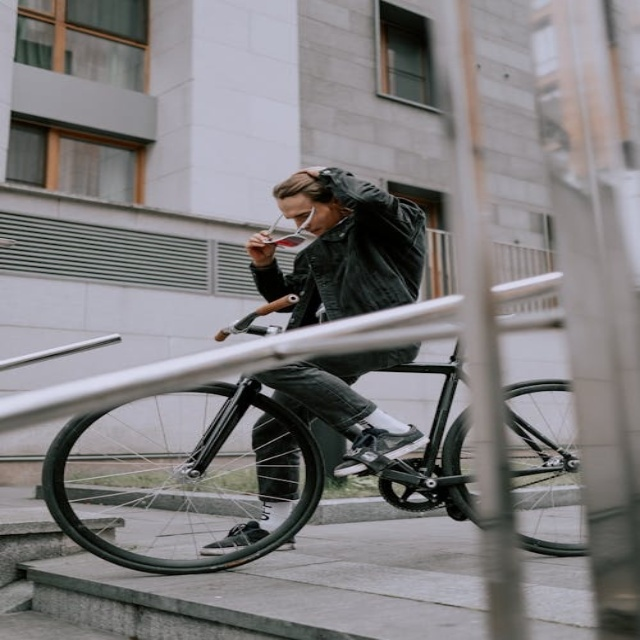Sin_gafas: (291, 210, 310, 221)
Sin_guantes: (238, 226, 282, 259)
Sin_mascara: (296, 225, 330, 236)
